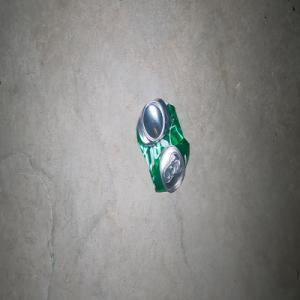SodaCan: (135, 97, 189, 192)
